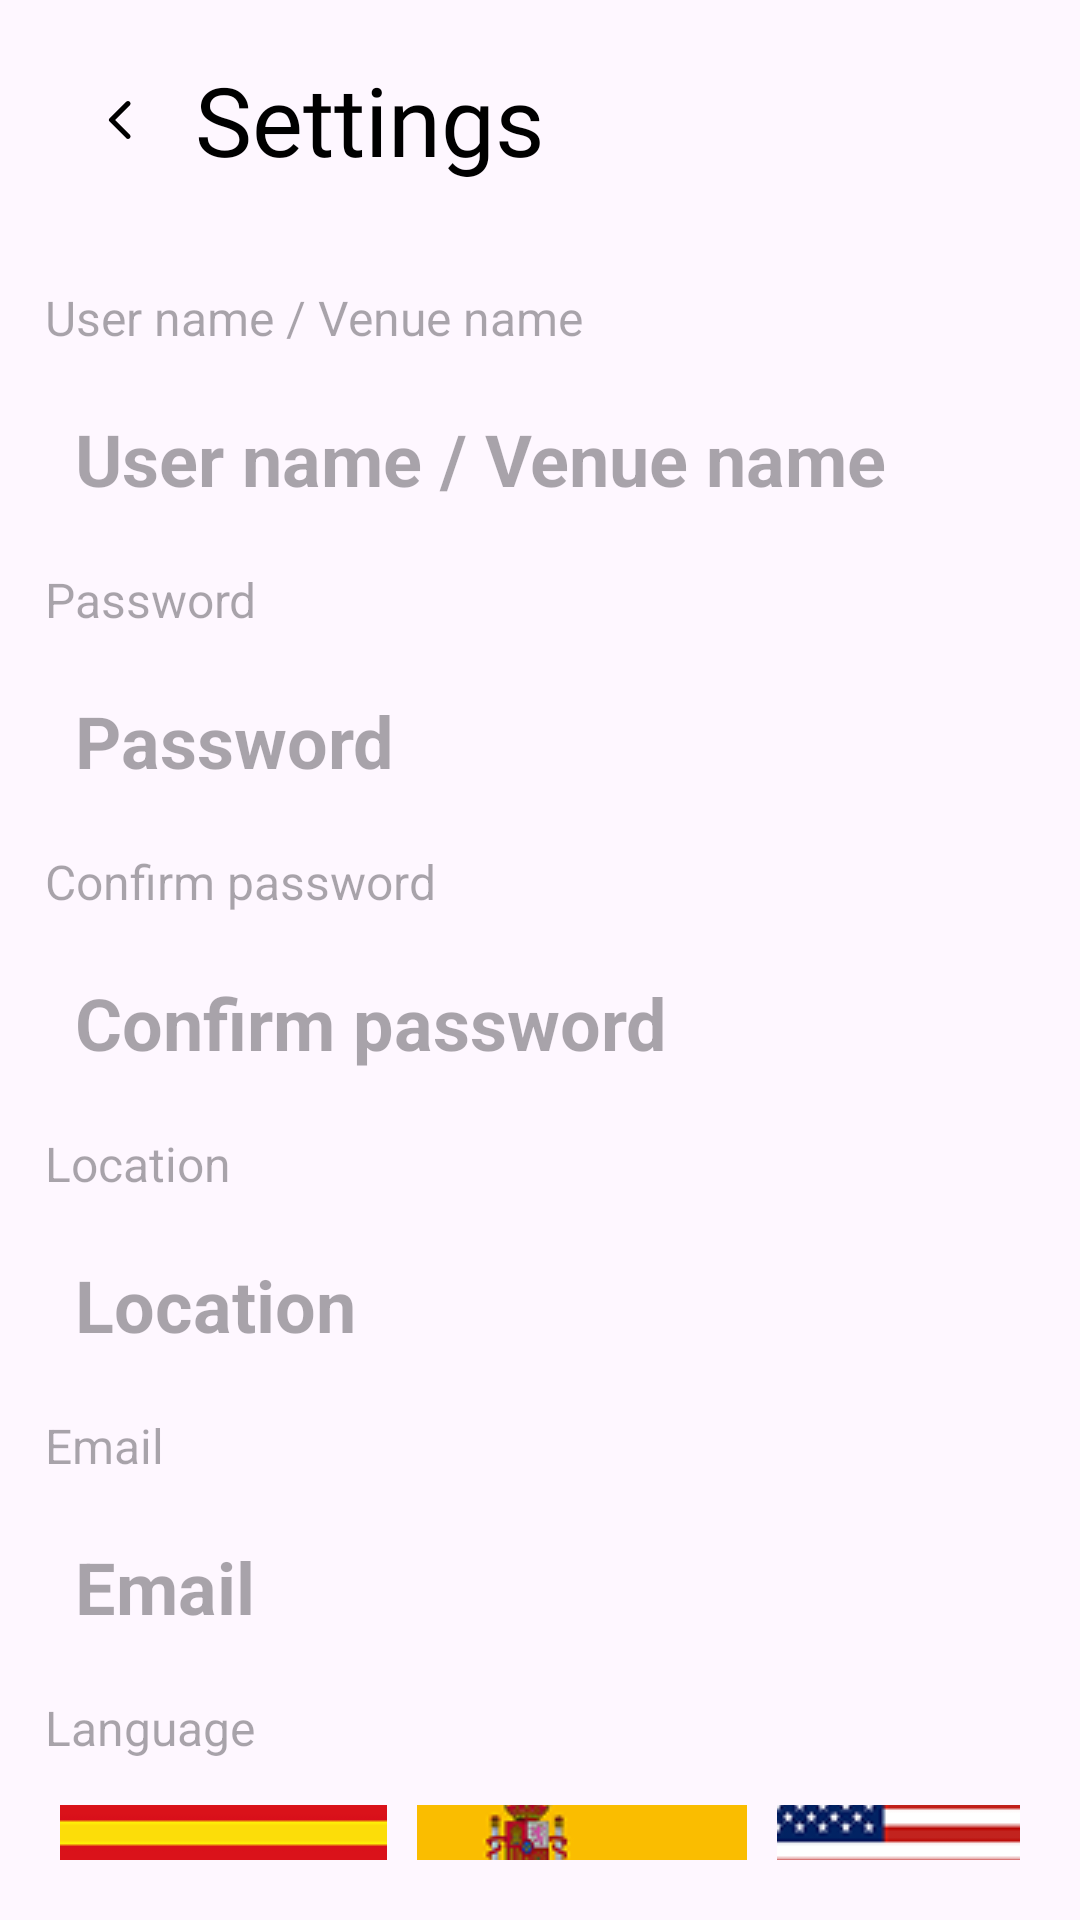

Point at icon controls on the screen. Image size 1080x1920, points as (x,y).
arrow back: (120,120)
catalonian: (223,1832)
english: (898,1832)
spanish: (582,1832)
